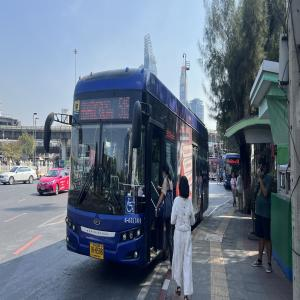Bus Line Number: (118, 94, 132, 121)
Bus Side Number: (122, 216, 142, 227)
Destination Sign: (78, 96, 115, 122)
TSB-Bus: (65, 68, 209, 271)
